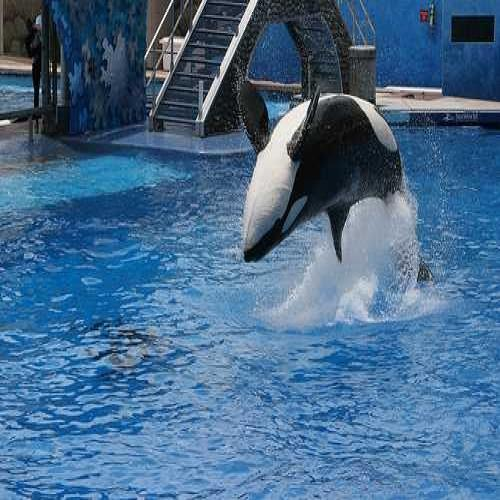killer_whale-endangered: (217, 41, 447, 338)
